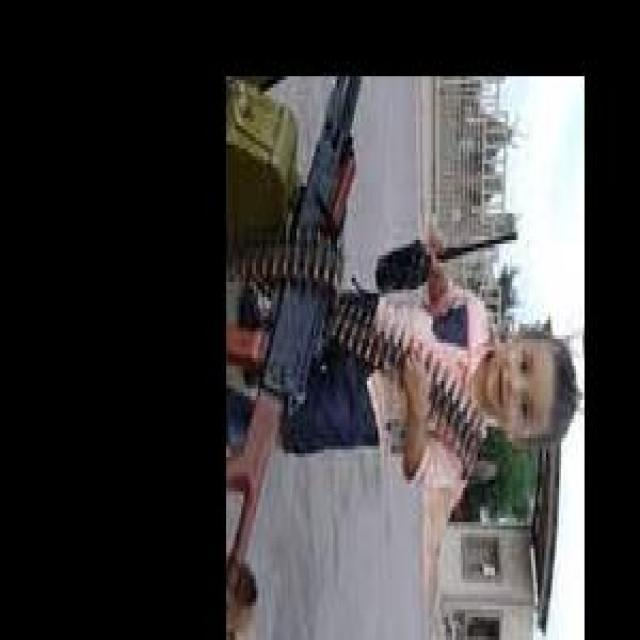weapon: (226, 76, 362, 602)
